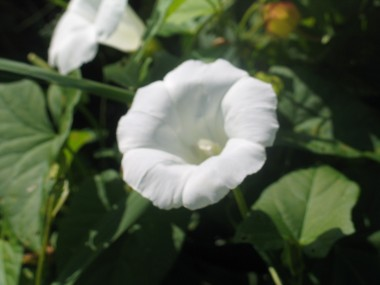haagwinde: (102, 46, 294, 217), (1, 54, 85, 245), (236, 153, 362, 256)
